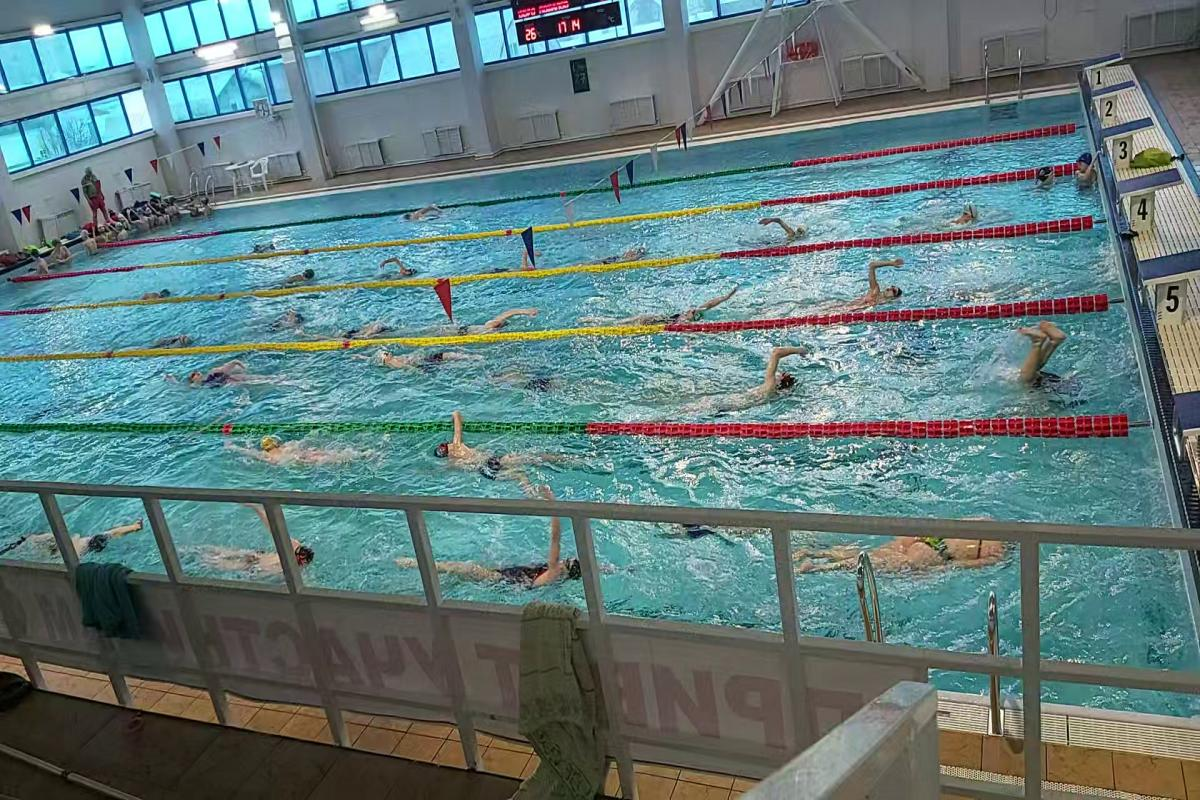swimmer: (799, 519, 1004, 583), (388, 534, 579, 600), (702, 344, 822, 413), (1002, 318, 1084, 410), (196, 523, 316, 577), (436, 430, 542, 484), (26, 515, 149, 558), (238, 432, 348, 475), (363, 345, 488, 379), (177, 356, 272, 398), (850, 248, 910, 314), (647, 283, 742, 318), (456, 310, 542, 332), (591, 240, 665, 261), (378, 246, 422, 281), (753, 212, 812, 238), (946, 198, 986, 230), (393, 204, 448, 227), (280, 265, 328, 288)
